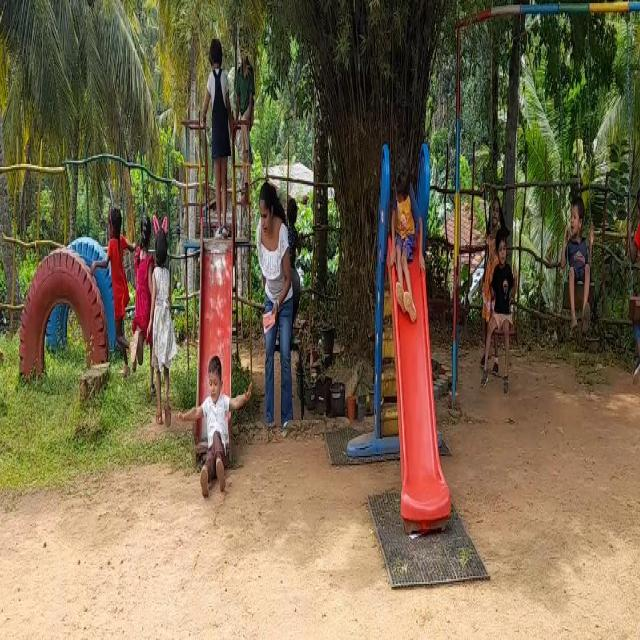adult: (256, 172, 306, 440)
child: (195, 342, 245, 488), (560, 180, 602, 344), (205, 40, 230, 249), (153, 215, 178, 423), (392, 163, 423, 313), (486, 214, 515, 357), (130, 220, 155, 383), (108, 196, 131, 361), (632, 170, 640, 415)
